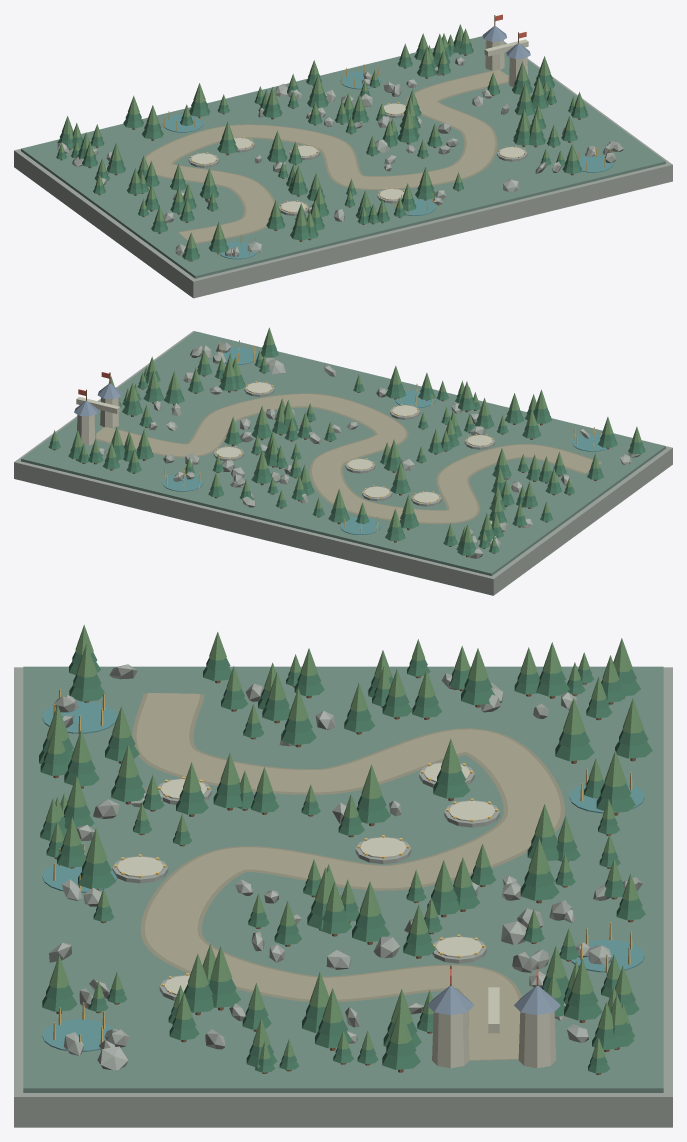
The model's file is 03_Mistfen.fbx.
3 views of the same model, one above another, from view 1: azimuth 30°, elevation 25°; view 2: azimuth 150°, elevation 25°; view 3: azimuth 270°, elevation 25° (orthographic). The views are drawn at different scales.
Visible parts, largest first — view 1: Ground, Scenery, Road, RoadBorder; view 2: Ground, Scenery, Road, RoadBorder; view 3: Ground, Scenery, Road, RoadBorder, Pad_03, Pad_04, Pad_05, Pad_07.
Boxes of the visible parts, x1,y1,x2,y2 form: Ground: (14, 36, 672, 298); Scenery: (56, 14, 623, 261); Road: (145, 70, 508, 242); RoadBorder: (140, 70, 508, 243); Ground: (14, 331, 672, 595); Scenery: (48, 327, 645, 558); Road: (96, 394, 600, 522); RoadBorder: (96, 393, 602, 524); Ground: (14, 666, 672, 1127); Scenery: (39, 625, 652, 1074); Road: (136, 693, 560, 1059); RoadBorder: (132, 693, 564, 1060); Pad_03: (444, 798, 499, 827); Pad_04: (355, 835, 411, 864); Pad_05: (112, 854, 168, 883); Pad_07: (432, 934, 486, 963).
Bounding box in the file's own units: 54 × 7.6 × 35.
